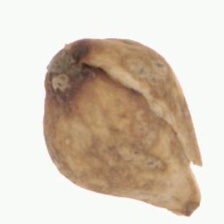L1: (42, 38, 90, 92), (178, 159, 205, 216)
L2: (41, 38, 203, 218)
